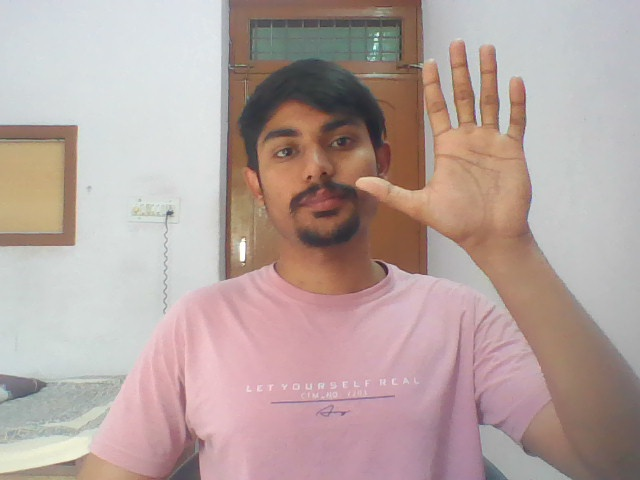Hello: (355, 31, 563, 247)
